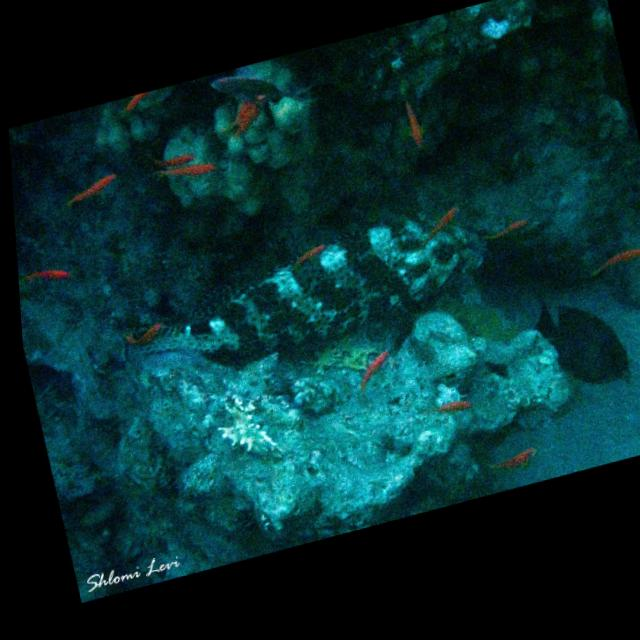Groupers: (100, 194, 502, 401)
